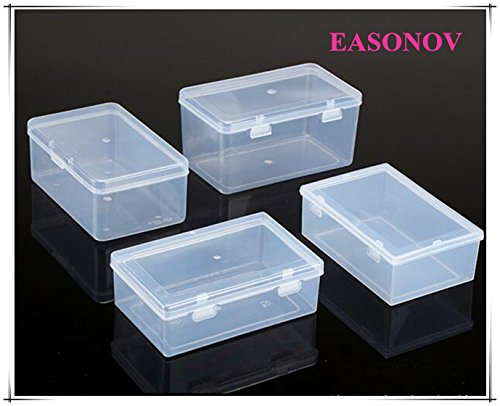PlasticBox: (108, 207, 326, 358), (295, 160, 486, 307), (175, 60, 366, 197)
